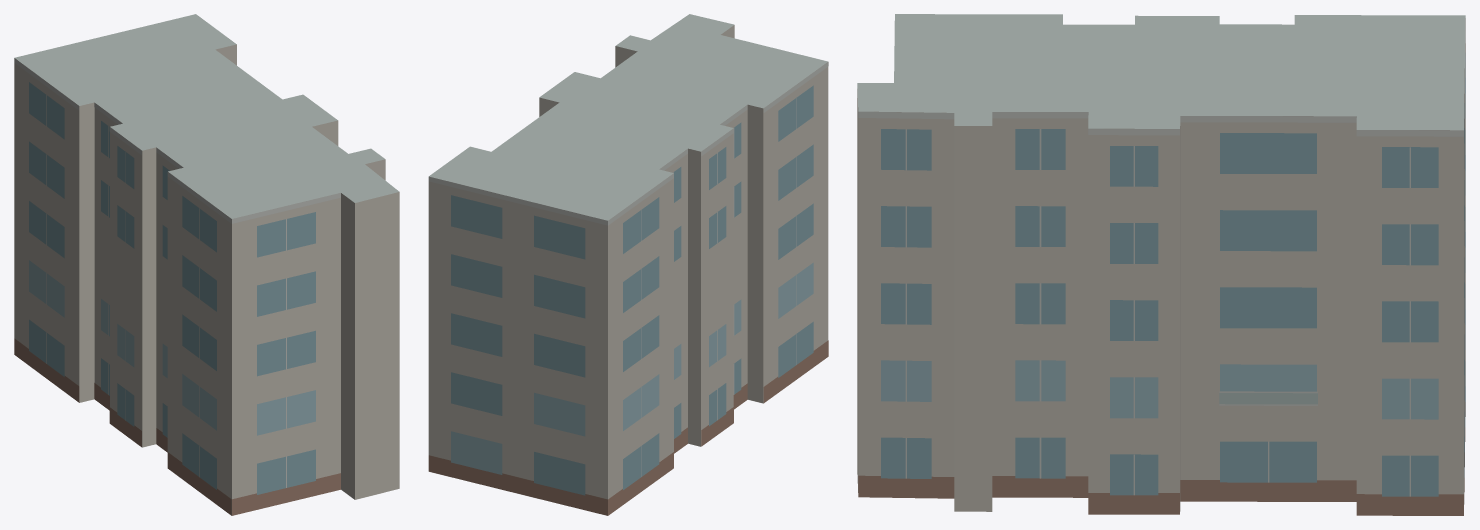
The model's file is survey-upis-32980540.glb.
3 renders of one model, left to right at view 1: azimuth 30°, elevation 25°; view 2: azimuth 150°, elevation 25°; view 3: azimuth 270°, elevation 25°, orthographic. The views are drawn at different scales.
Parts seen in each view (by area): view 1: survey-upis-32980540.tmp; view 2: survey-upis-32980540.tmp; view 3: survey-upis-32980540.tmp.
Boxes of the visible parts, left/top/right/bottom form: survey-upis-32980540.tmp: left=14, top=14, right=399, bottom=515; survey-upis-32980540.tmp: left=428, top=14, right=828, bottom=515; survey-upis-32980540.tmp: left=857, top=14, right=1465, bottom=515.
Bounding box in the file's own units: 9.5 × 14.7 × 21.01.
